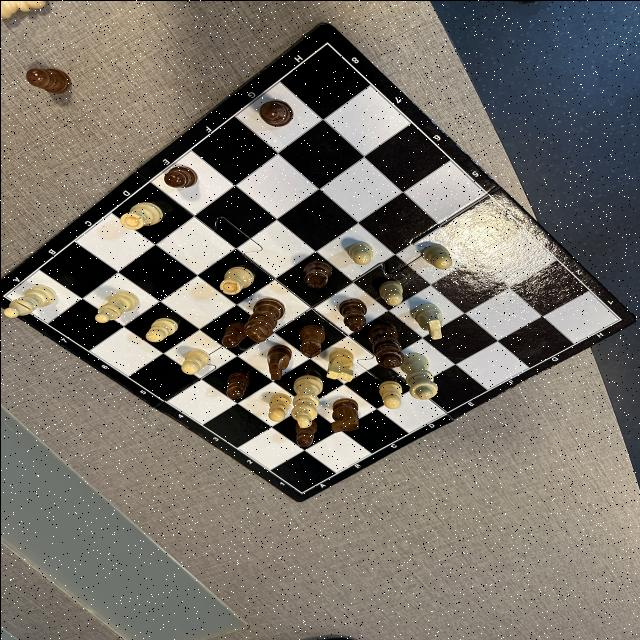Black-Bishop: (338, 298, 366, 332), (258, 100, 293, 126)
Black-King: (244, 296, 284, 342)
Black-Knight: (331, 398, 358, 432), (266, 344, 290, 380)
Black-Pawn: (24, 68, 70, 93), (163, 165, 196, 188), (220, 321, 248, 347), (292, 418, 316, 446), (225, 372, 248, 398)
Black-Queen: (368, 322, 402, 368)
Black-Rook: (298, 324, 324, 356), (302, 260, 331, 288)
White-Bishop: (2, 284, 56, 318), (94, 290, 136, 322)
White-King: (290, 374, 322, 428)
White-Knight: (412, 302, 441, 338), (326, 348, 354, 381)
White-Pawn: (0, 0, 45, 20), (144, 316, 177, 341), (422, 243, 452, 269), (181, 348, 209, 374), (377, 380, 401, 408), (268, 392, 292, 420), (378, 279, 402, 305), (347, 241, 373, 265)
White-Queen: (399, 352, 437, 399)
White-Rook: (119, 201, 163, 229), (219, 266, 253, 294)
